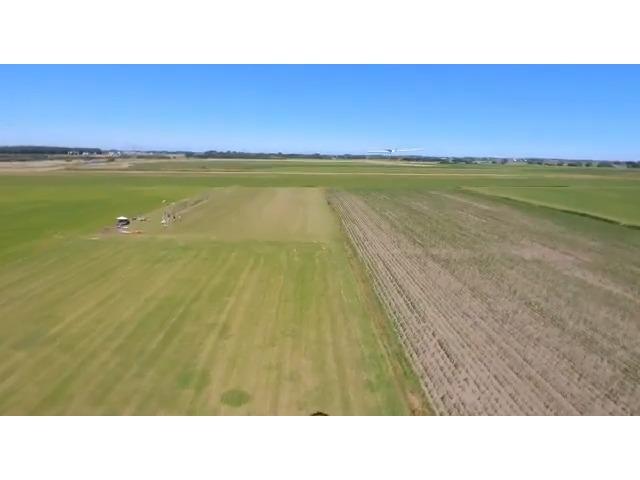Anti-Drone: (351, 133, 441, 172)
